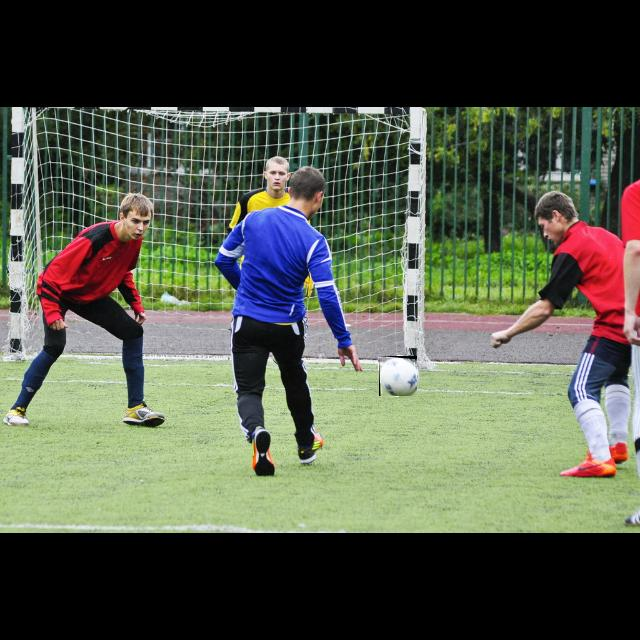Football: (379, 356, 417, 396)
